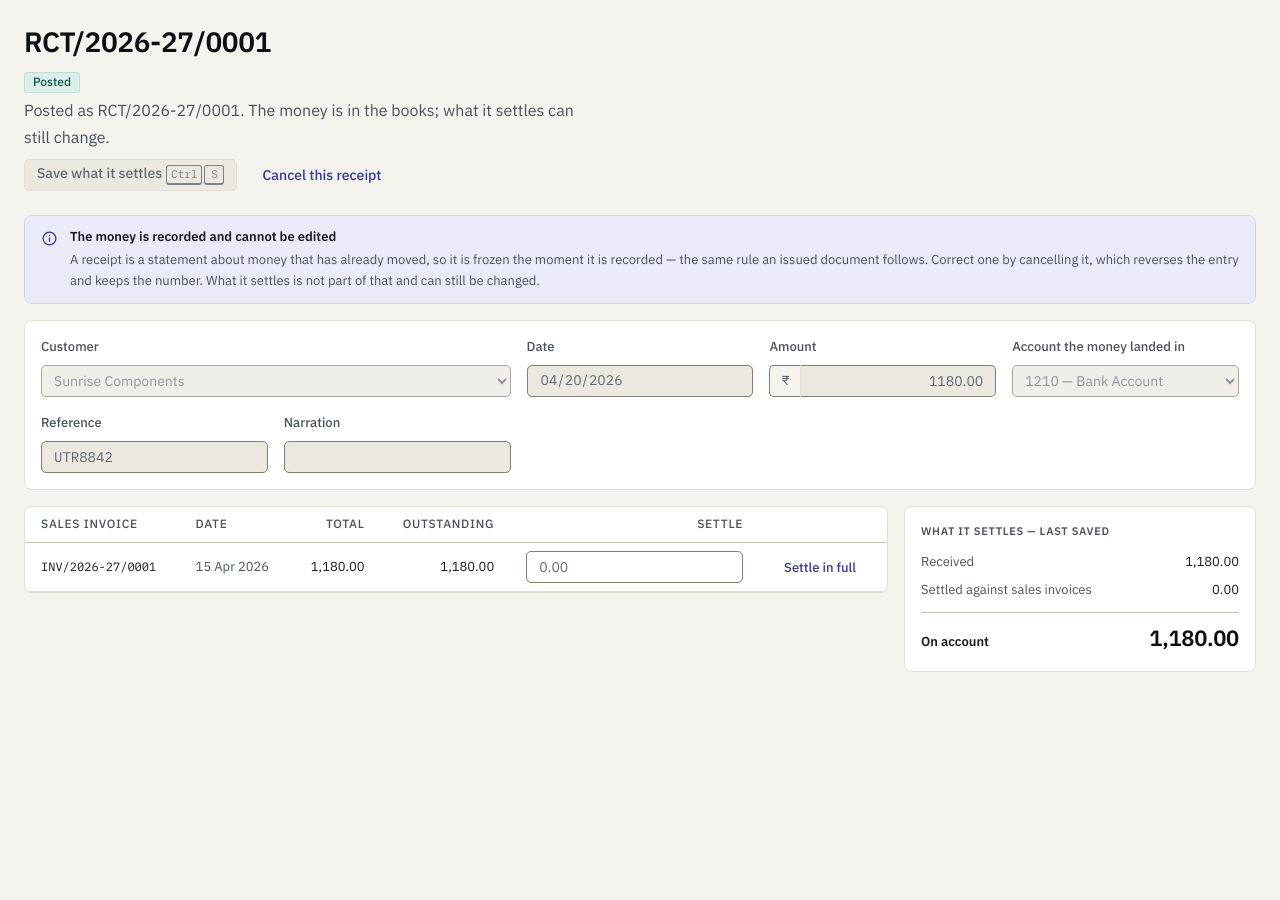
Test: the figures › marks the figures as stale rather than redrawing them
Type "500.00" into the field named "Settle against INV/2026-27/0001" at (635, 567), box left=526, top=551, right=743, bottom=583
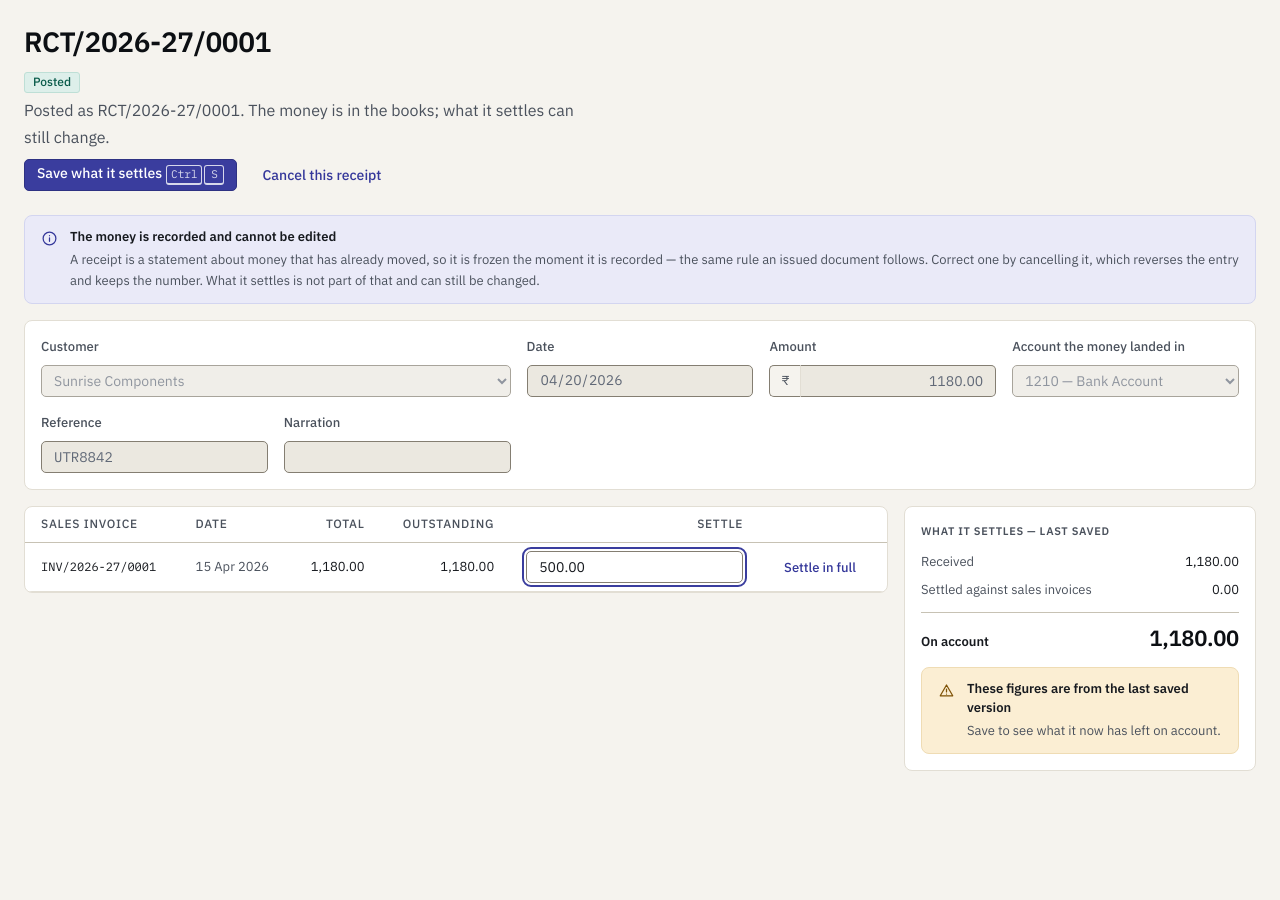
Check: the 2nd text "1,180.00" is shown, box left=1149, top=621, right=1239, bottom=655
Check: the text "These figures are from the last saved version" is shown, box left=967, top=680, right=1222, bottom=717
